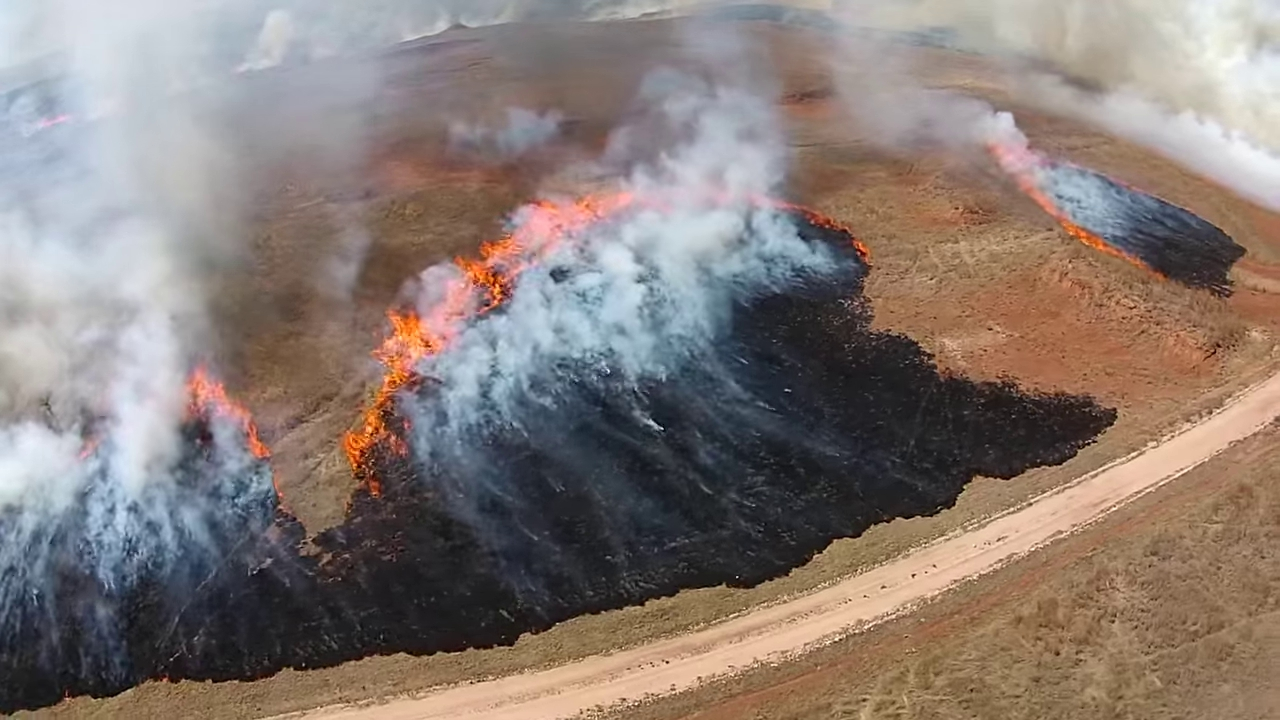forest_fire: (343, 193, 639, 496), (989, 141, 1154, 270), (188, 367, 269, 458), (761, 199, 850, 233), (850, 235, 869, 266)
